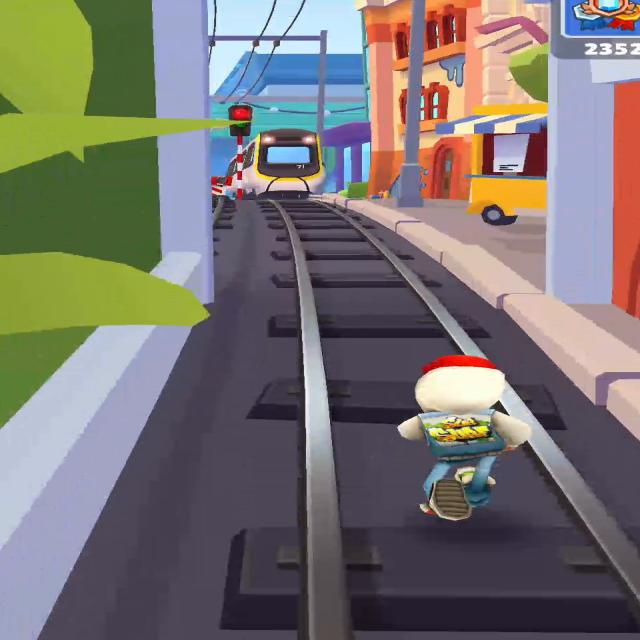block pillar: (0, 0, 214, 640)
blocker: (212, 175, 231, 195)
train: (246, 129, 326, 192)
